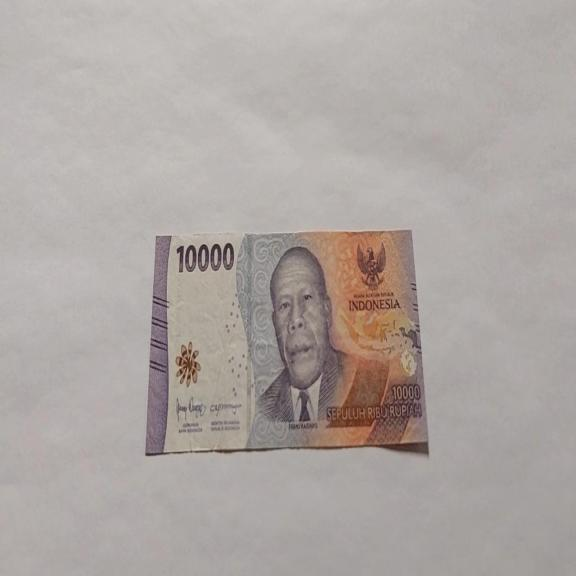Kertas: (145, 227, 429, 456), (175, 240, 235, 274)
